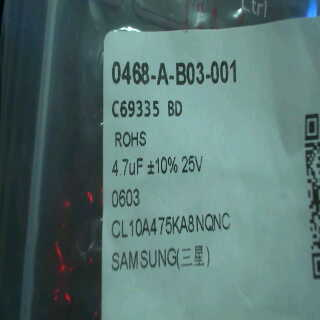4.7uF: (107, 151, 147, 178)
